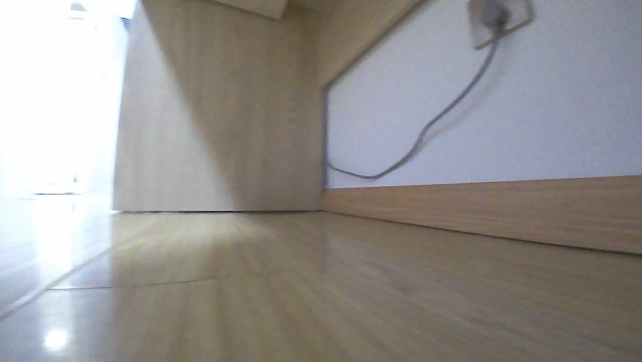wire: (327, 0, 510, 181)
